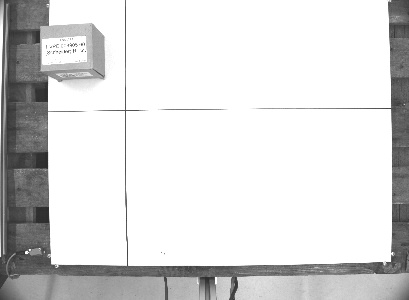b5: (36, 21, 107, 83)
